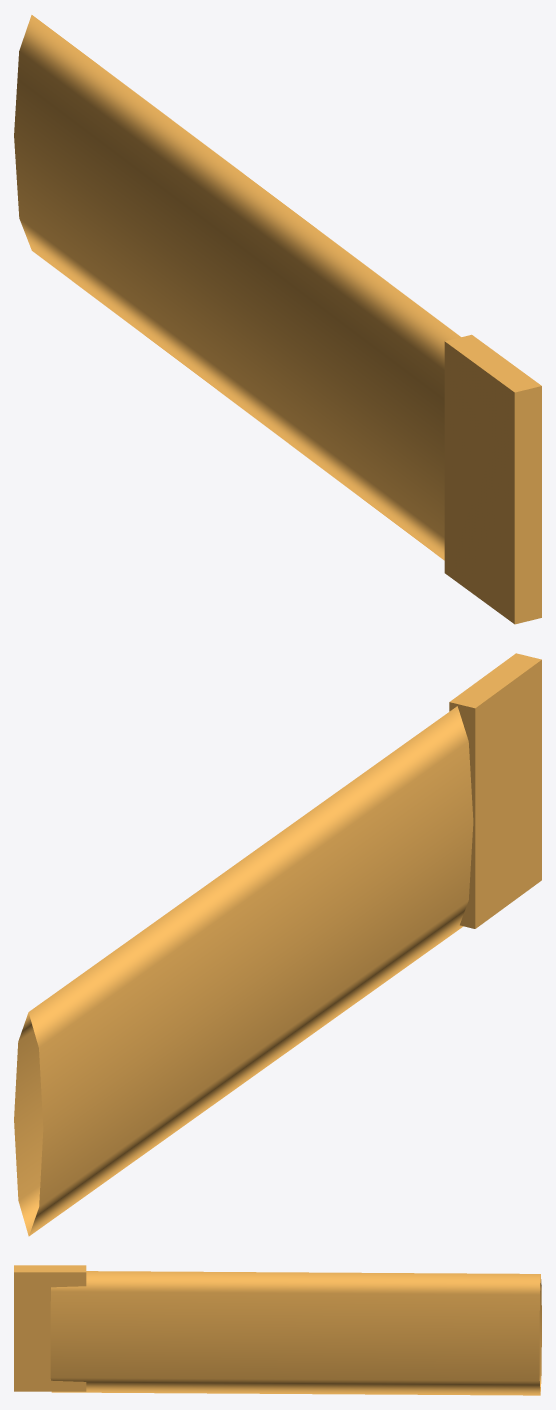
Rendered from ChestStrapConnecting1.fbx.
3 views of the same model, one above another, from view 1: azimuth 30°, elevation 25°; view 2: azimuth 150°, elevation 25°; view 3: azimuth 270°, elevation 25° (orthographic). The views are drawn at different scales.
Parts seen in each view (by area): view 1: Obi_Rod, ROD_Connector; view 2: Obi_Rod, ROD_Connector; view 3: Obi_Rod, ROD_Connector.
Boxes of the visible parts, x1,y1,x2,y2 form: Obi_Rod: (14, 15, 460, 560); ROD_Connector: (444, 334, 541, 624); Obi_Rod: (14, 706, 473, 1236); ROD_Connector: (449, 653, 541, 928); Obi_Rod: (50, 1271, 541, 1395); ROD_Connector: (14, 1265, 86, 1391).
Size of the model in its own units: 0.5352 by 2.74 by 10.63.
